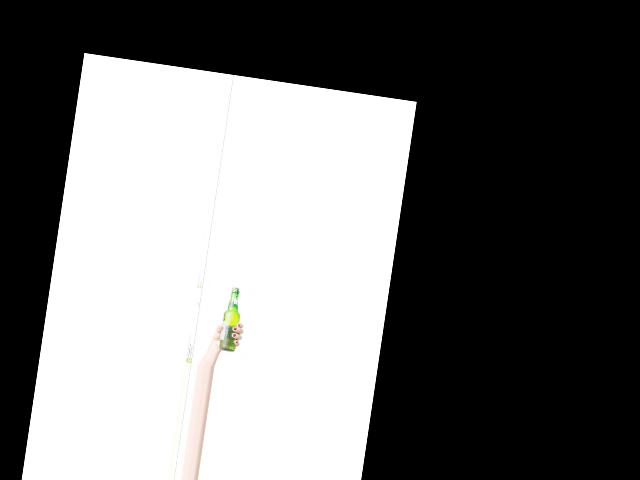beer: (217, 285, 243, 352)
